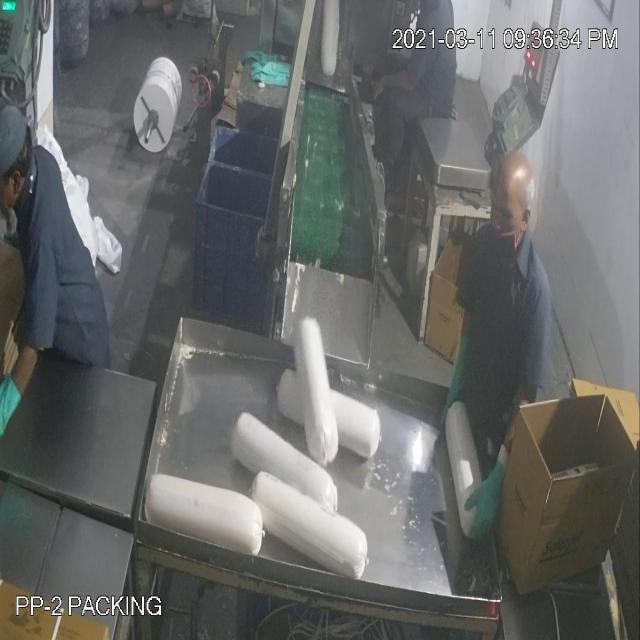No_Gloves: (44, 66, 492, 498)
